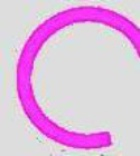ProgressBar: (1, 1, 139, 155)
